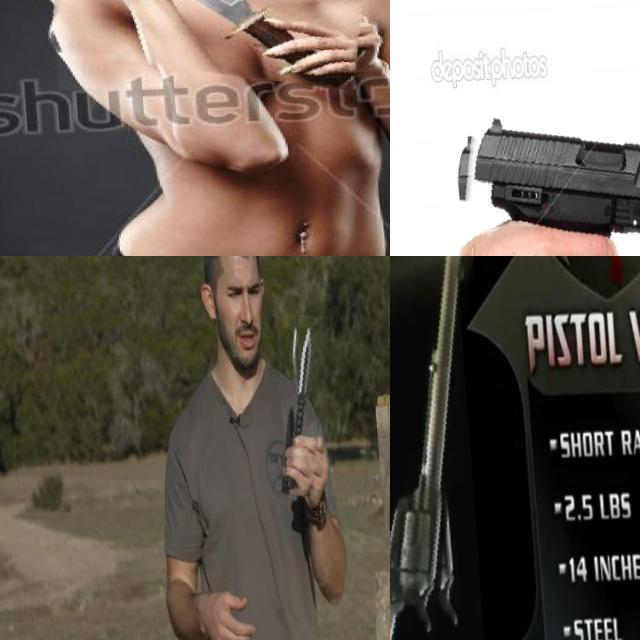-: (42, 0, 368, 93), (274, 318, 330, 501)
gun-knife-thesis - v11 Yolov5 augmented: (390, 256, 483, 640), (430, 103, 640, 256)
